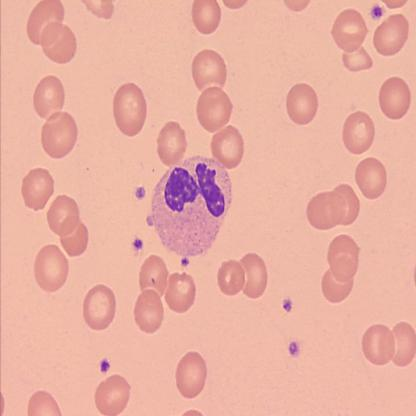Segmented neutrophil: (152, 154, 233, 257)
